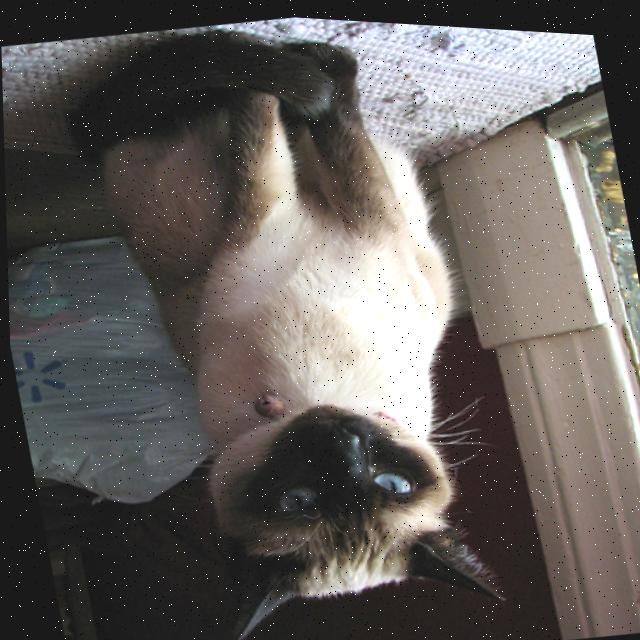Siamese: (49, 2, 522, 640)
